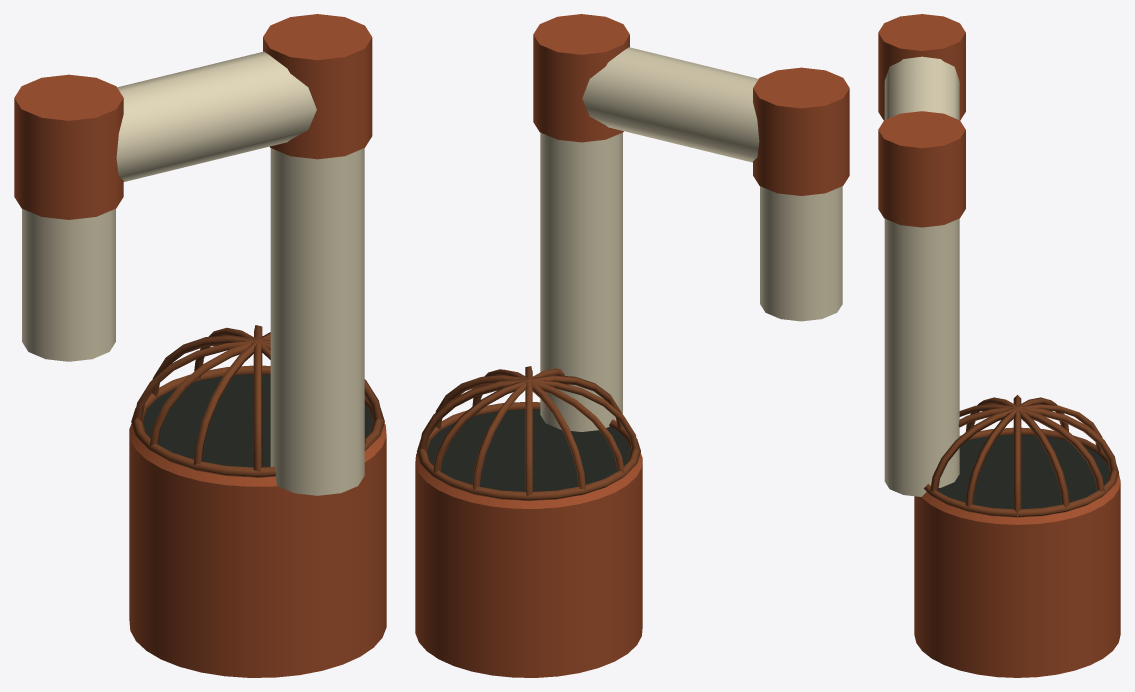
File: u500_fan.obj
The picture shows the model from 3 angles, left to right: view 1: azimuth 30°, elevation 25°; view 2: azimuth 150°, elevation 25°; view 3: azimuth 270°, elevation 25°; orthographic projection. The views are drawn at different scales.
Visible parts, largest first — view 1: u500_fan; view 2: u500_fan; view 3: u500_fan.
Part boxes in pixels (bbox=[...]): u500_fan: bbox=[14, 14, 386, 677]; u500_fan: bbox=[415, 14, 849, 677]; u500_fan: bbox=[878, 14, 1120, 677].
Bounding box in the file's own units: 2.41 × 3.56 × 1.55.
